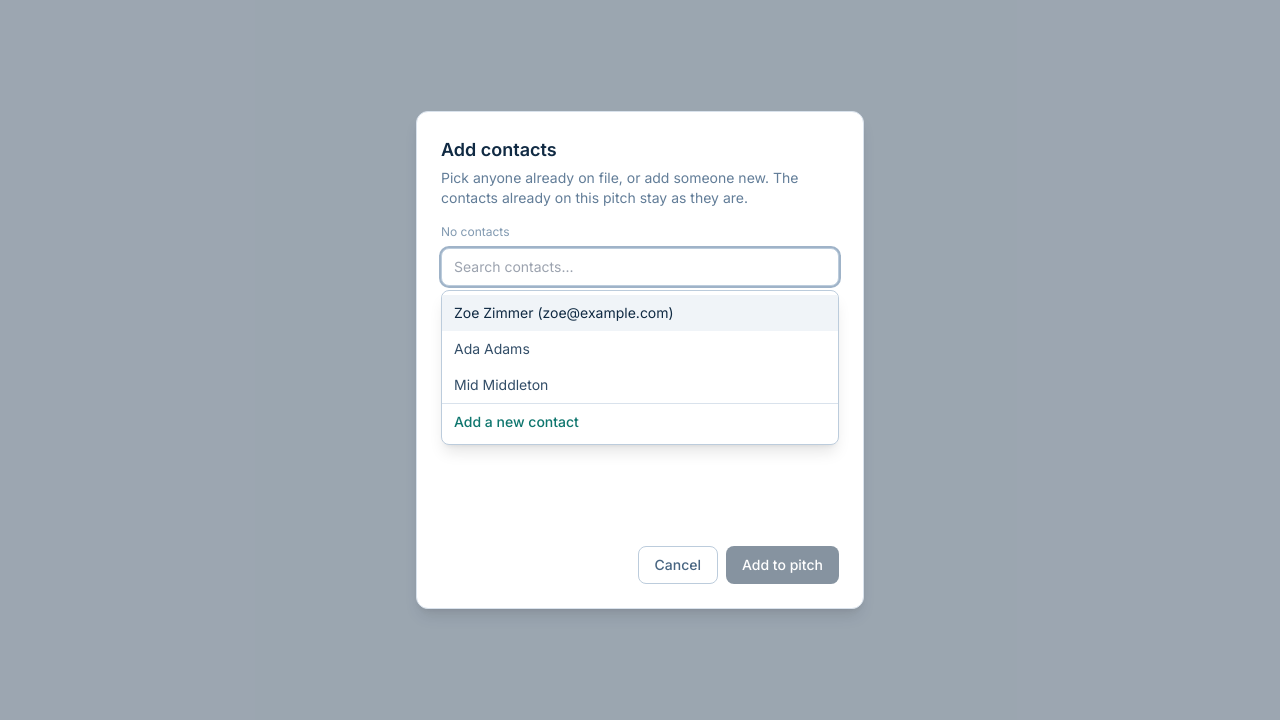
Test: AddPitchContactsModal › creates a contact who is not on file and picks them straight away
The image size is (1280, 720).
Type "Nora Nobody" into the dropdown named "Add contact" at [640, 267], box [441,248,839,286]
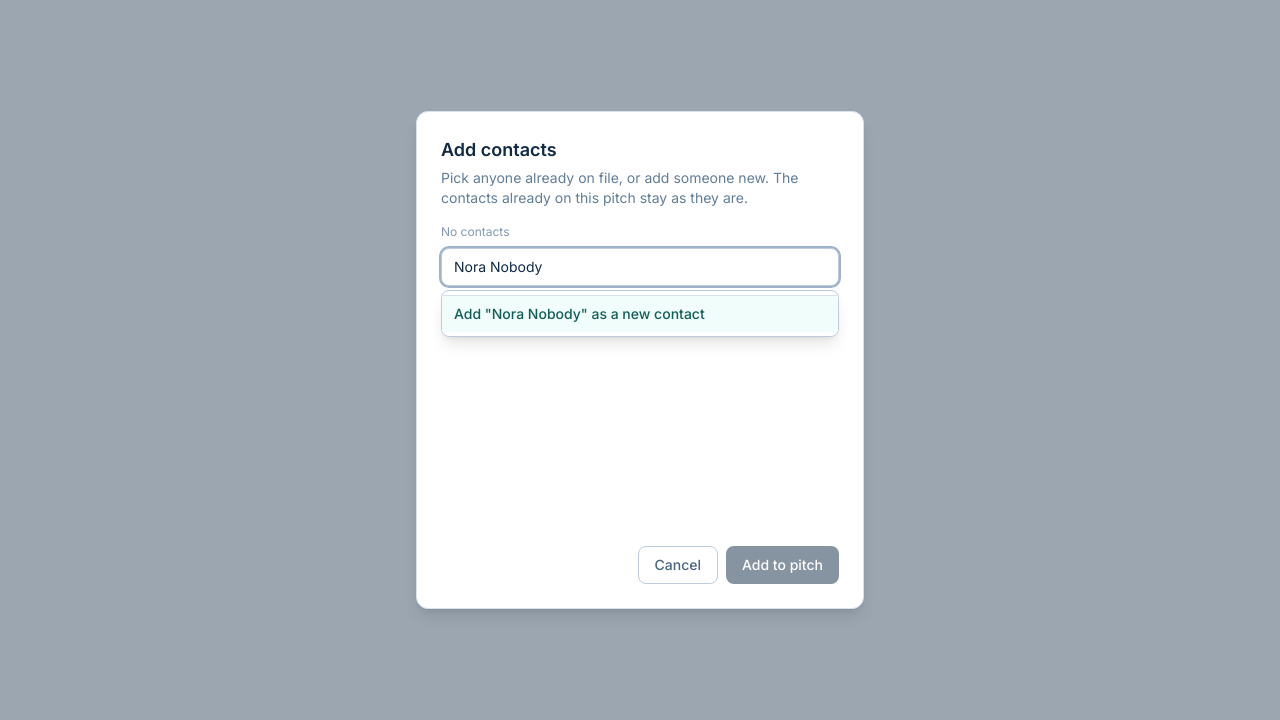
Click the option "Add \"Nora Nobody\" as a new contact" at [640, 314], box [442,295,838,332]
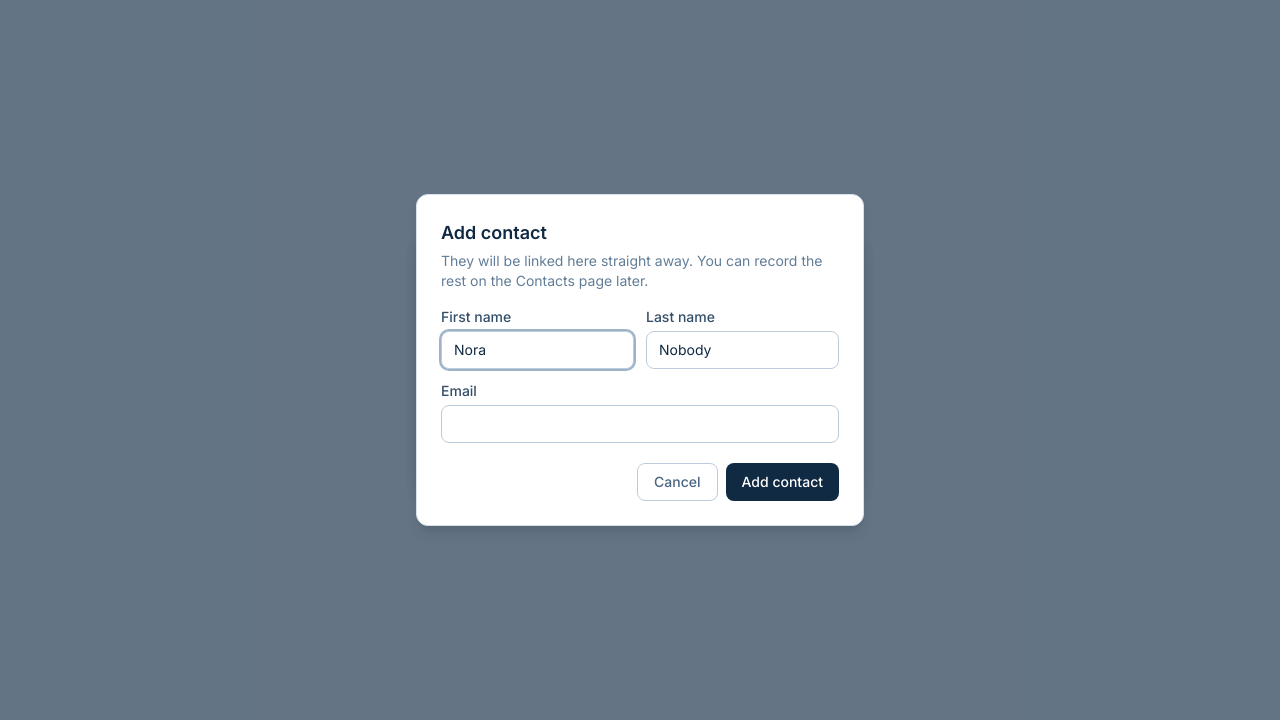
Expected: the field labelled "First name" holds "Nora", [441,331,634,369]
Expected: the field labelled "Last name" holds "Nobody", [646,331,839,369]
Click the button "Add contact" at [782, 482], box [726,463,839,501]
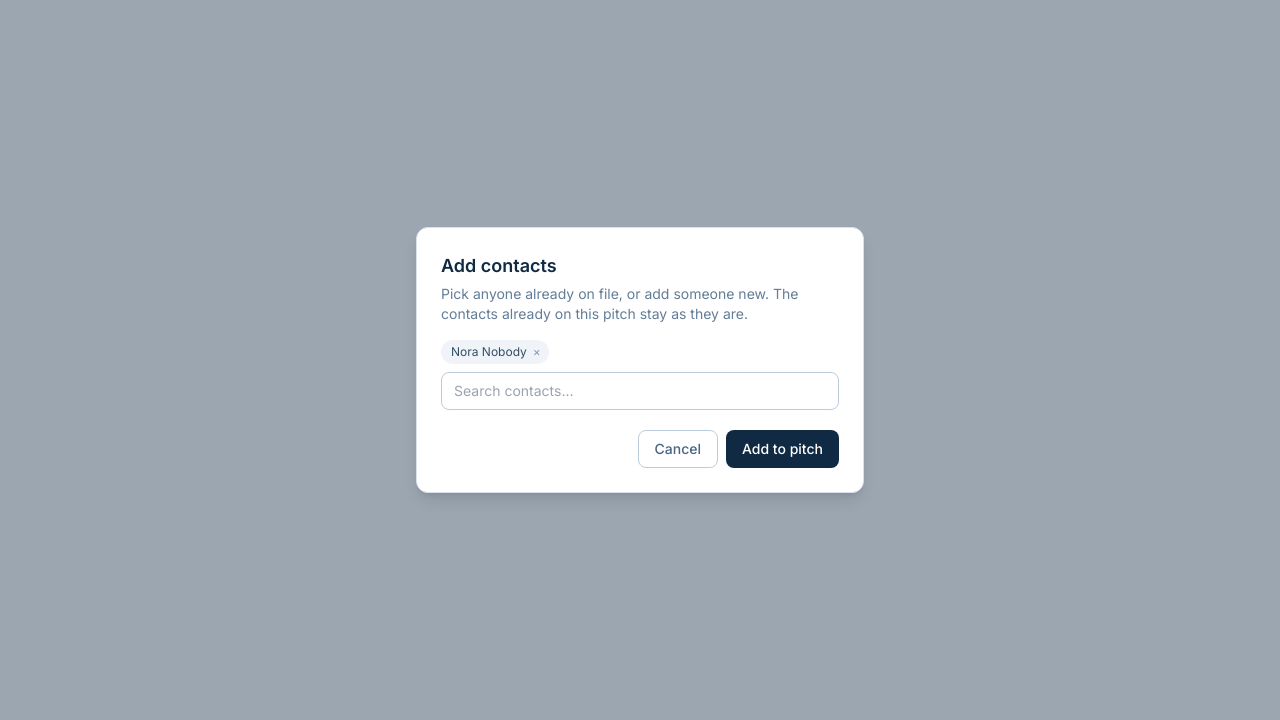
Expected: the list item with test id "contact-chip" shows "Nora Nobody", [451,344,527,359]
Expected: the element with test id "contact-quick-create-overlay" is gone
